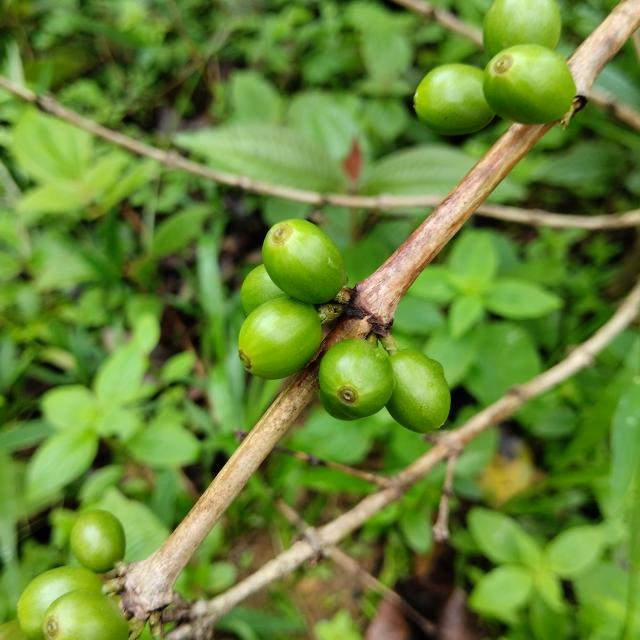green: (484, 44, 577, 124), (262, 219, 346, 304), (238, 297, 322, 380), (319, 339, 395, 421), (17, 567, 101, 640), (414, 63, 496, 135), (386, 349, 451, 434), (484, 0, 562, 57), (42, 591, 128, 640), (69, 510, 125, 574), (241, 264, 289, 315)
